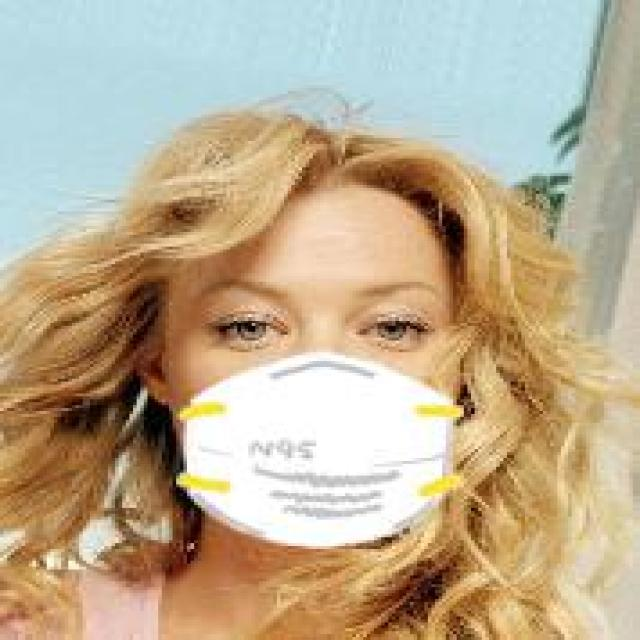mask: (115, 100, 543, 581)
